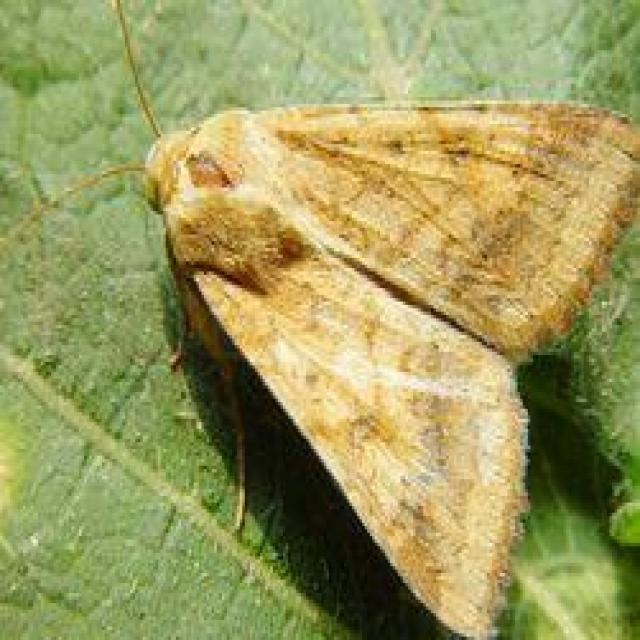BeetArmyWorm-Adult-: (106, 55, 636, 637)
